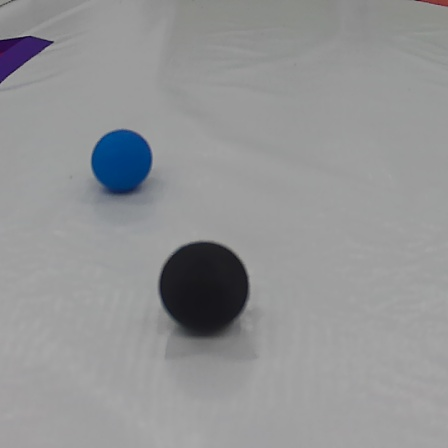black: (163, 236, 251, 335)
blue: (91, 128, 154, 197)
